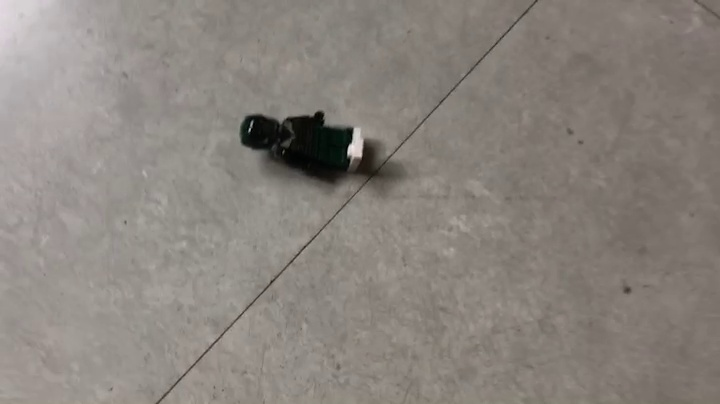people: (237, 109, 369, 186)
